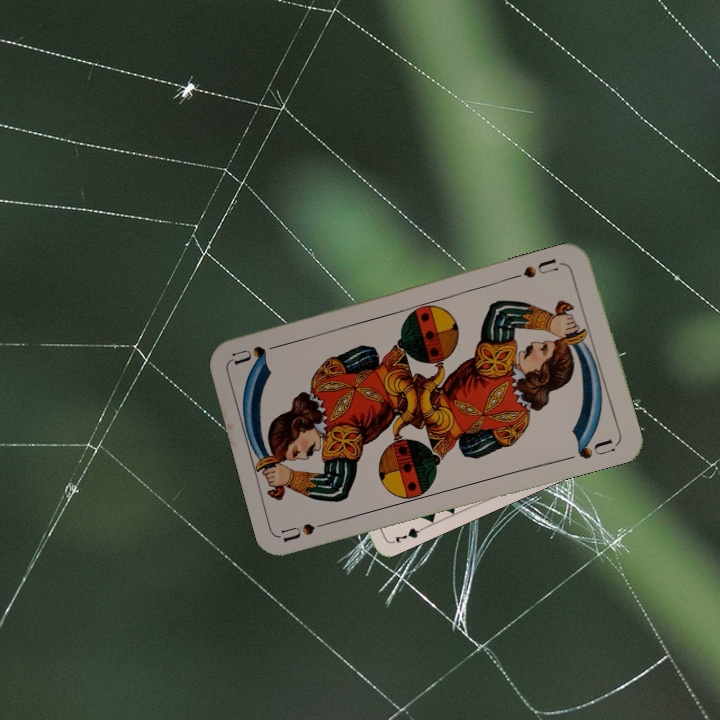G7: (386, 524, 425, 546)
SU: (279, 516, 338, 544), (519, 254, 561, 281)
